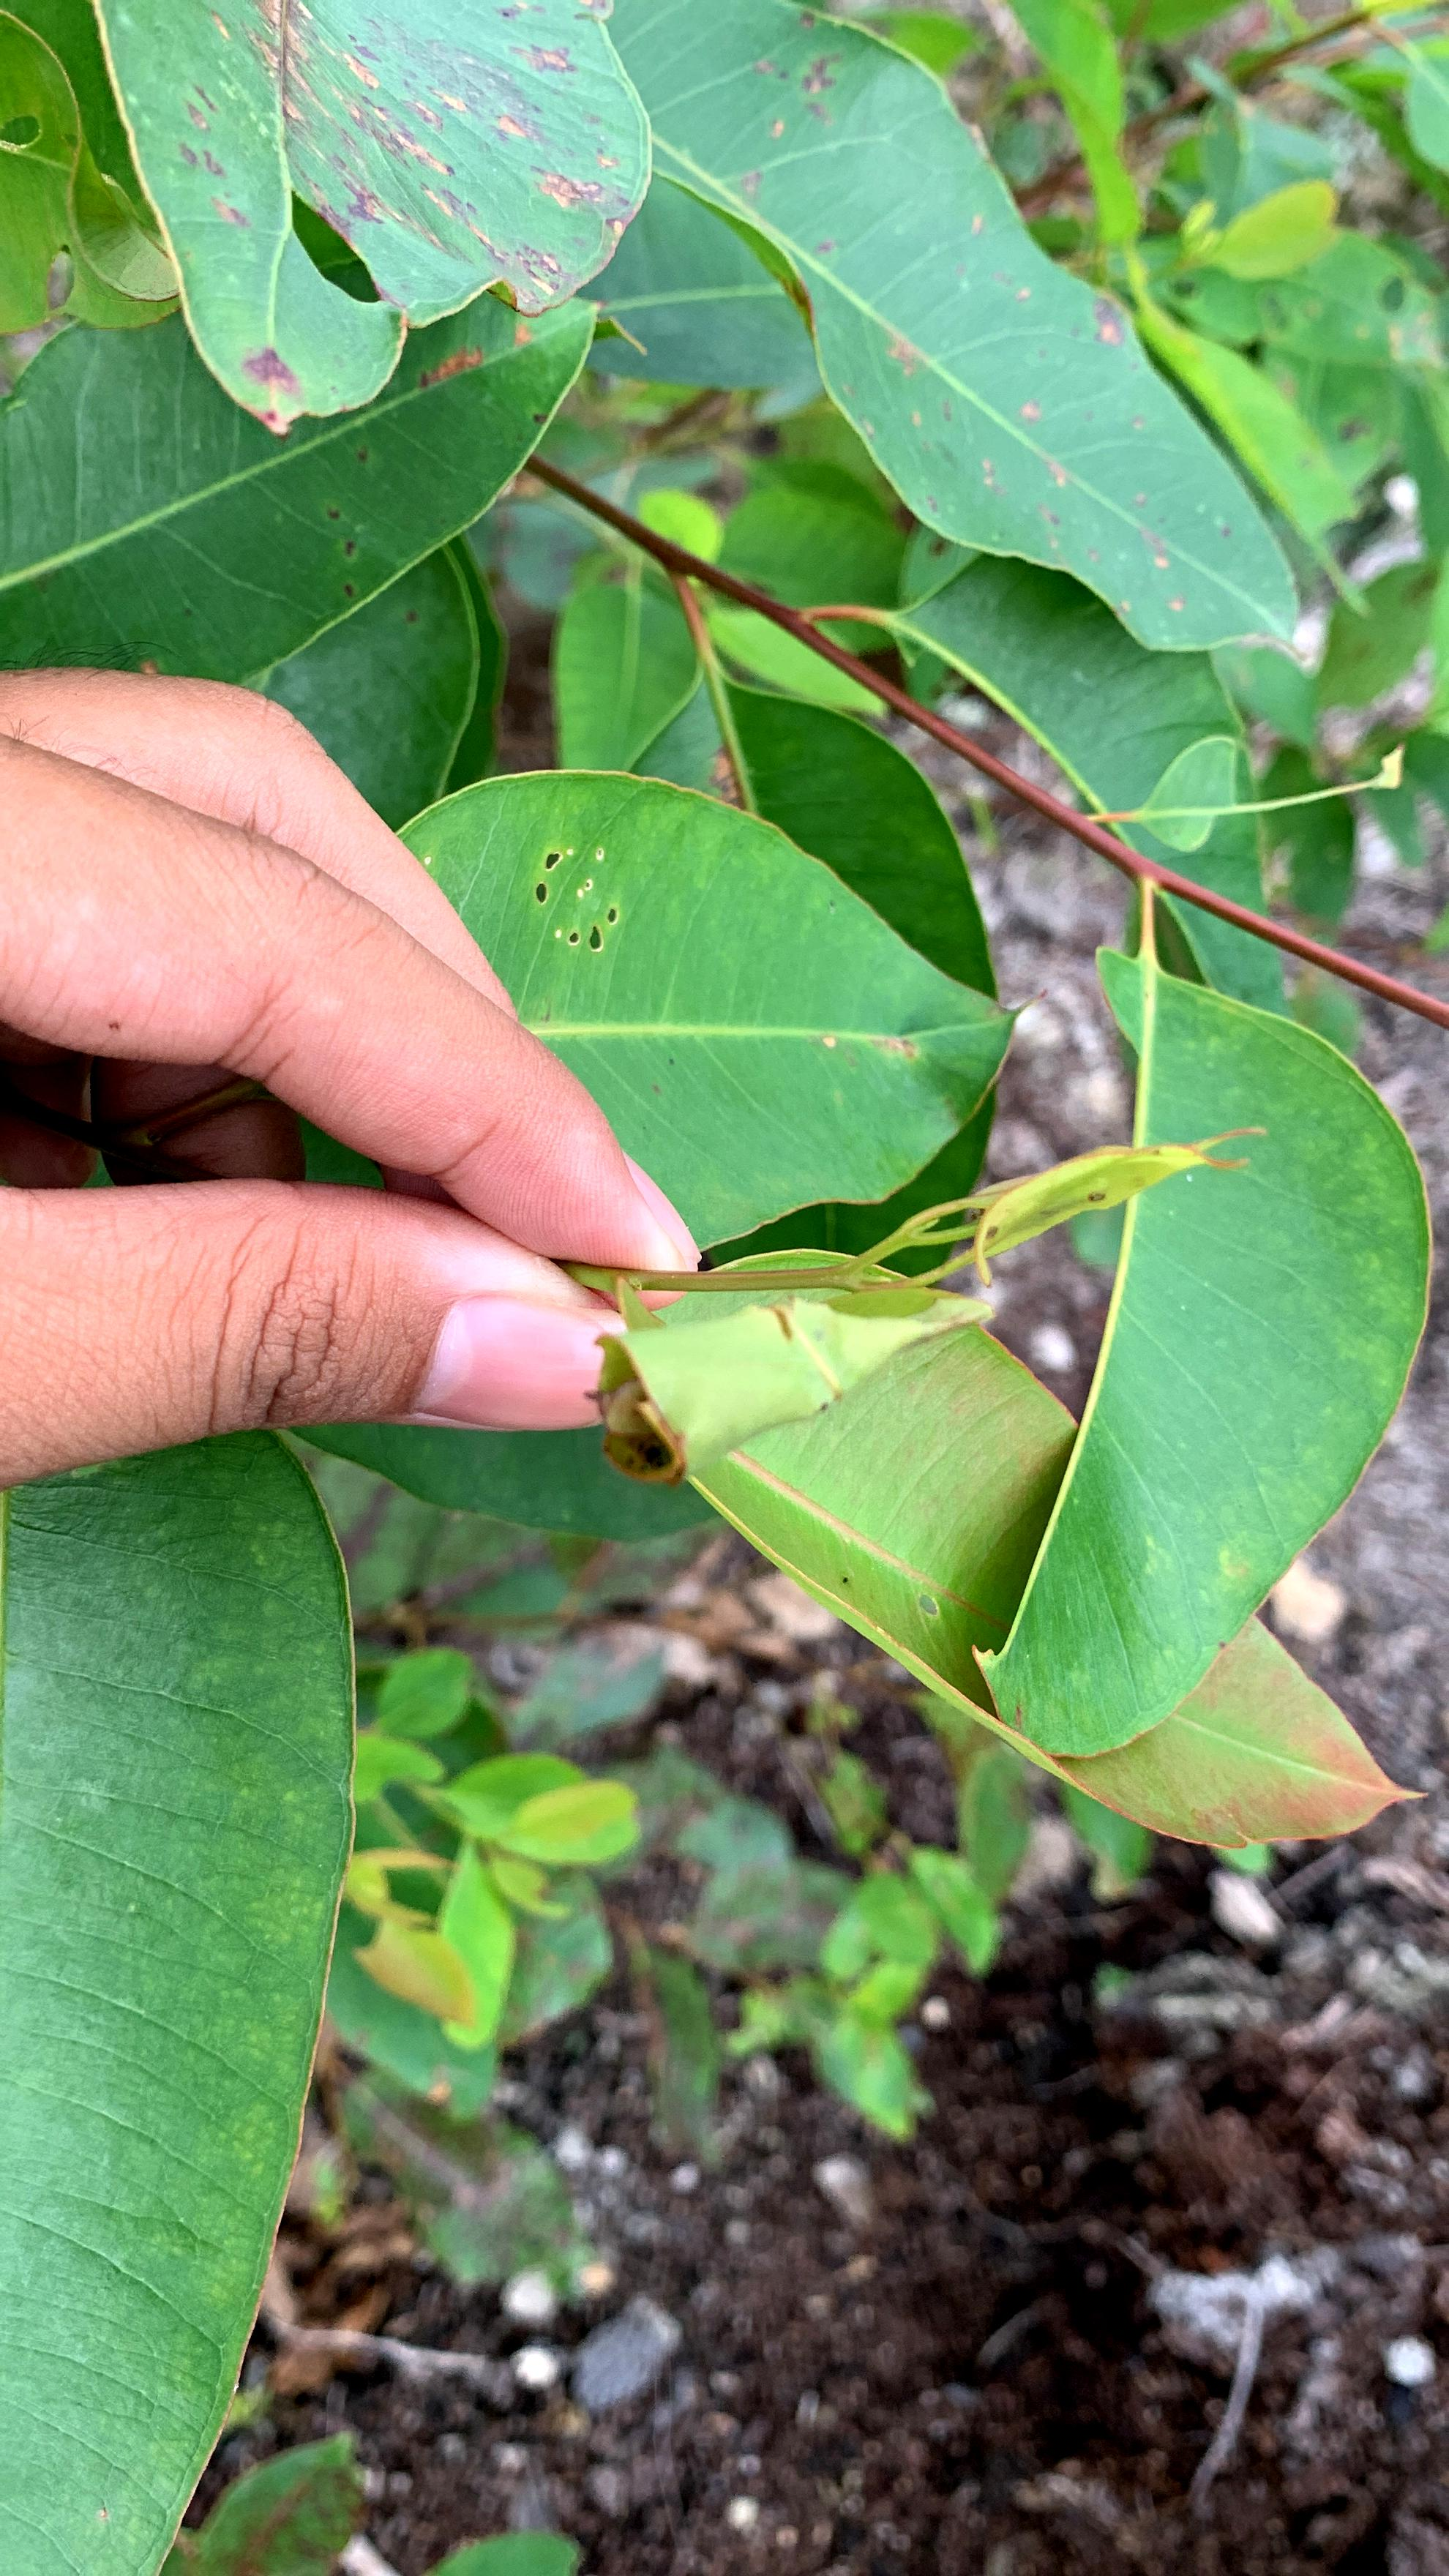Leaf Roller - Leaf: (575, 1246, 1001, 1491)
